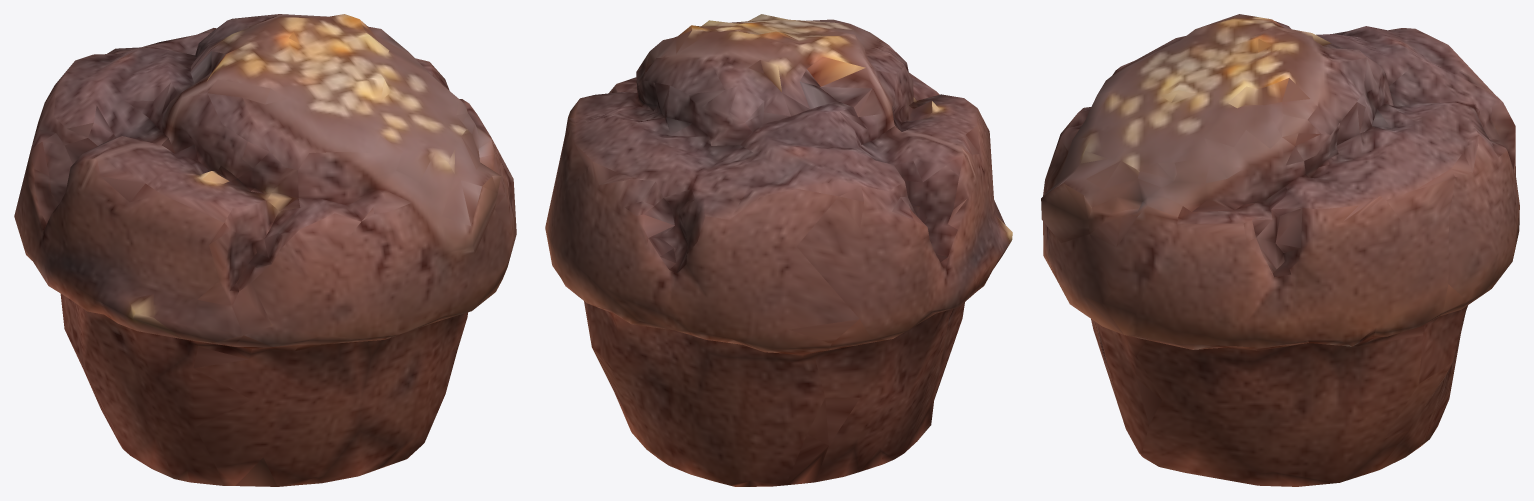
File: muffin_1242.obj
3 views of the same model, side by side, from view 1: azimuth 30°, elevation 25°; view 2: azimuth 150°, elevation 25°; view 3: azimuth 270°, elevation 25° (orthographic). The views are drawn at different scales.
Bounding box in the file's own units: 14.27 × 12.98 × 14.34.
Materials: 1 (1 with a texture image).
